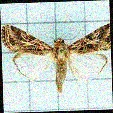Spodoptera litura: (2, 22, 112, 94)
